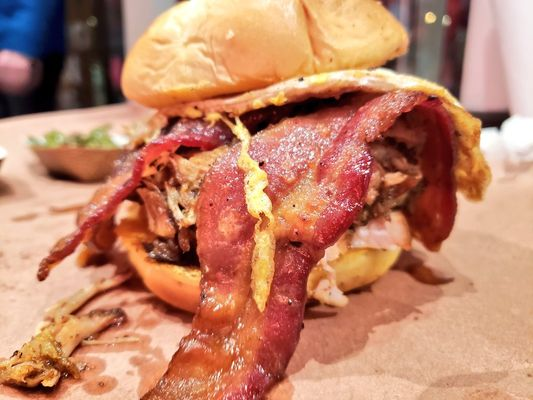soup: (63, 0, 480, 397)
